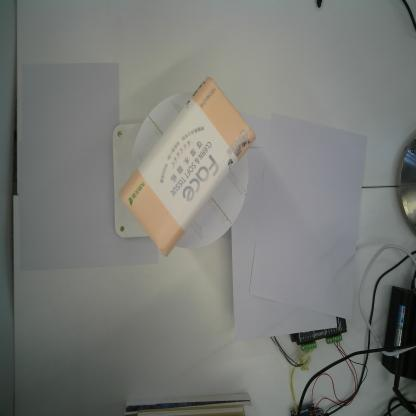Tissue: (118, 76, 256, 257)
